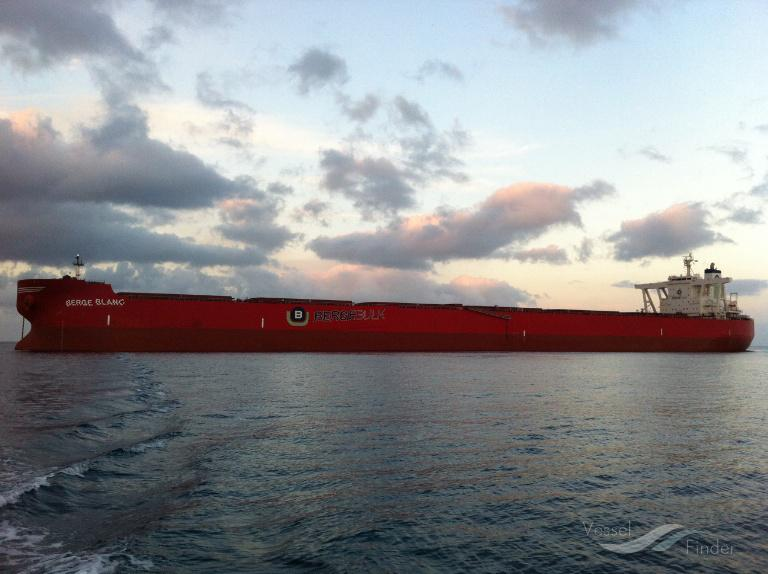OCR: (308, 306, 399, 332), (53, 296, 129, 313)
